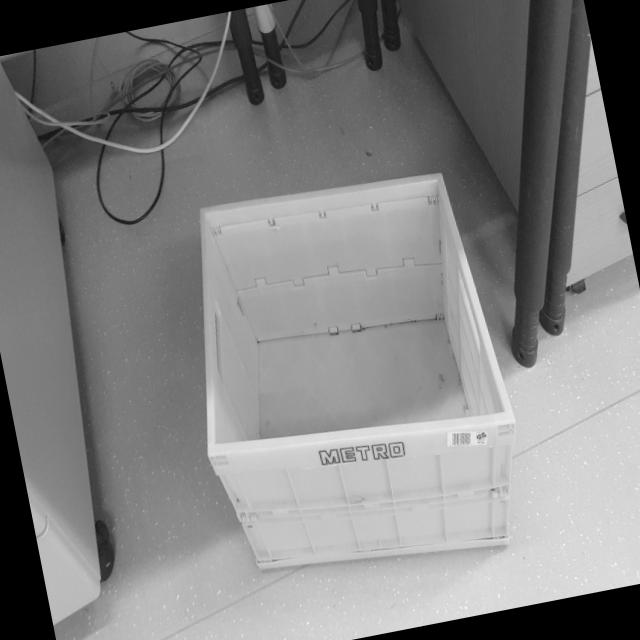box: (153, 152, 544, 614)
